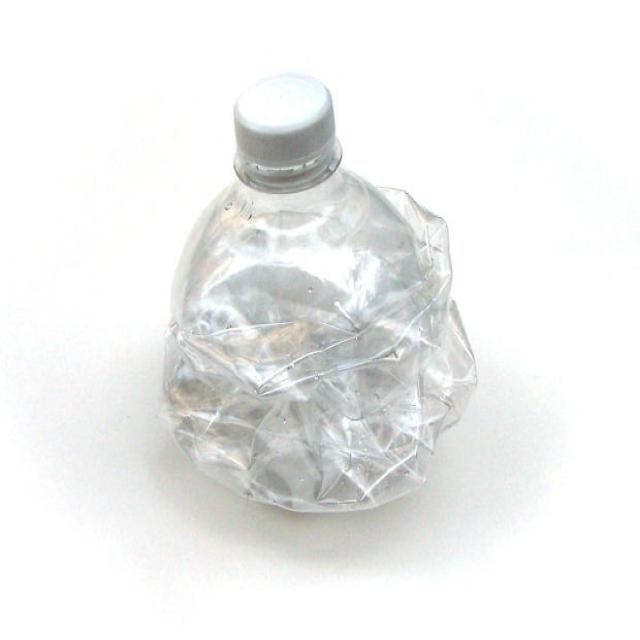plastic: (164, 54, 471, 512)
